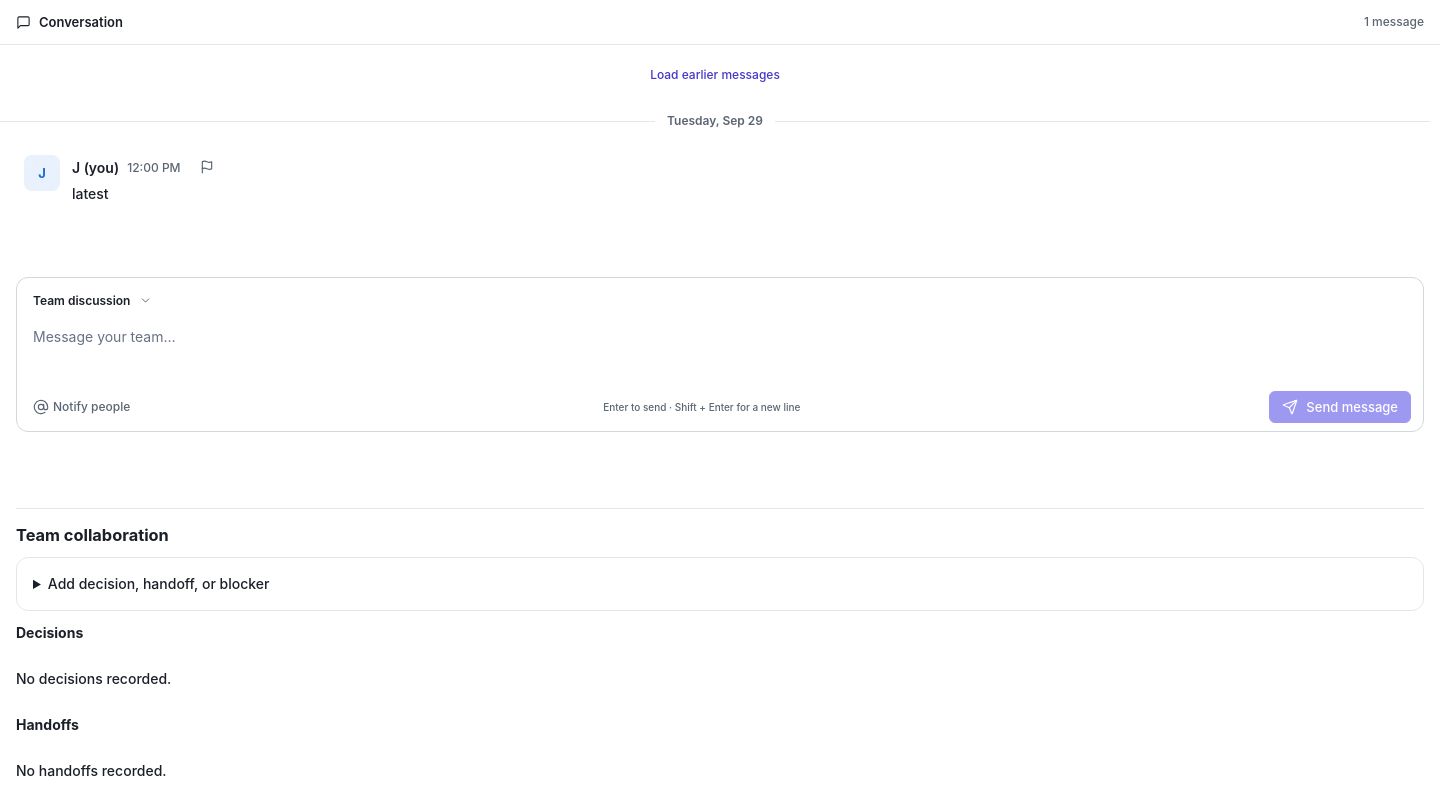
Test case: RoomConversation › preserves earlier pages while catching up incrementally, deduplicating by ID and ordering by server sequence
The width and height of the screenshot is (1440, 809).
What coordinates should you click on to do the following:
click the button "Load earlier messages"
I would click on:
 (715, 74)
Its box is [639,61,791,87].
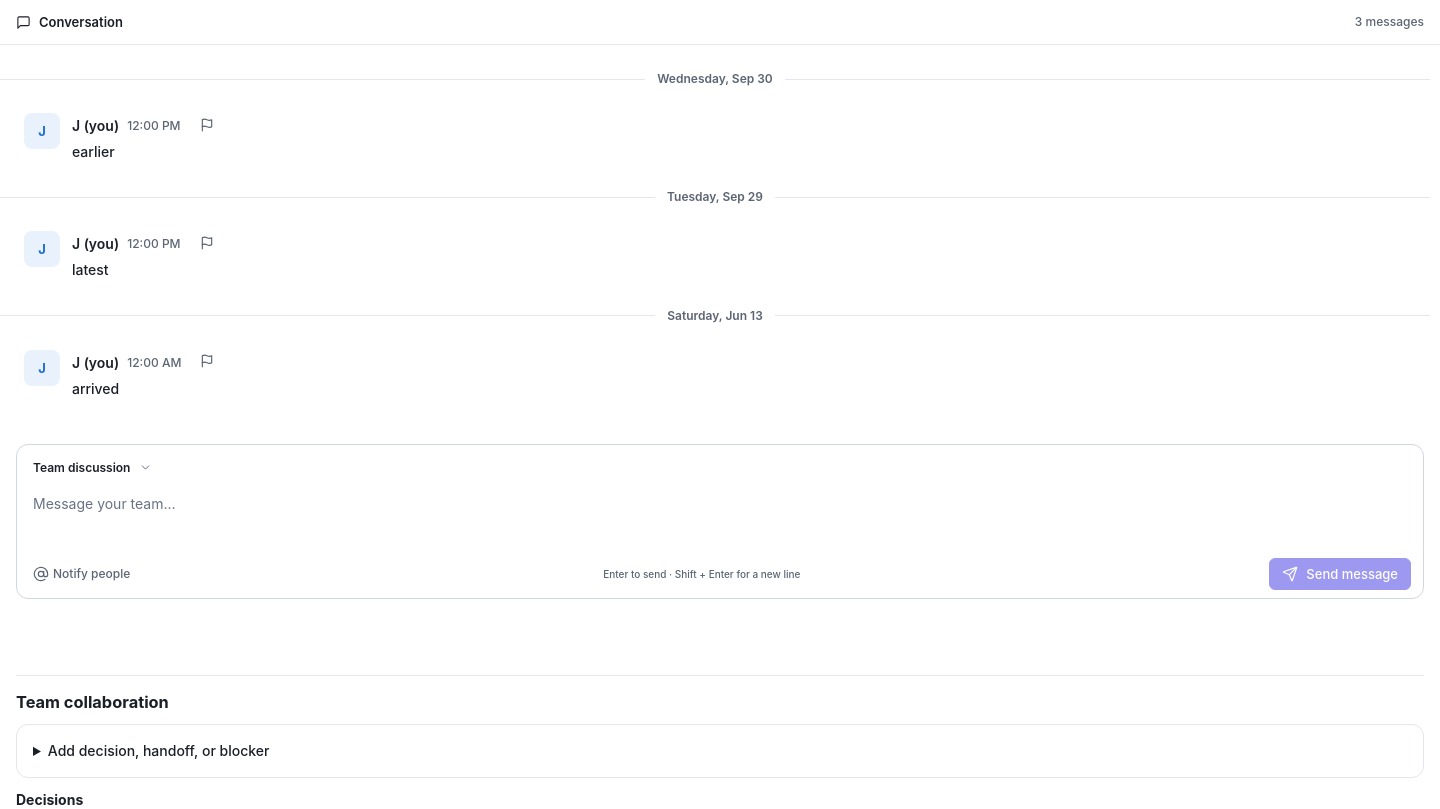
Expected: the text "arrived" is shown, [72,380,119,397]
Expected: the number of list items is 3, [24,71,773,160]; [24,189,763,278]; [24,308,763,397]
Expected: the list item "Wednesday, Sep 30 J J (you) 12:00 PM earlier" is shown, [24,71,773,160]
